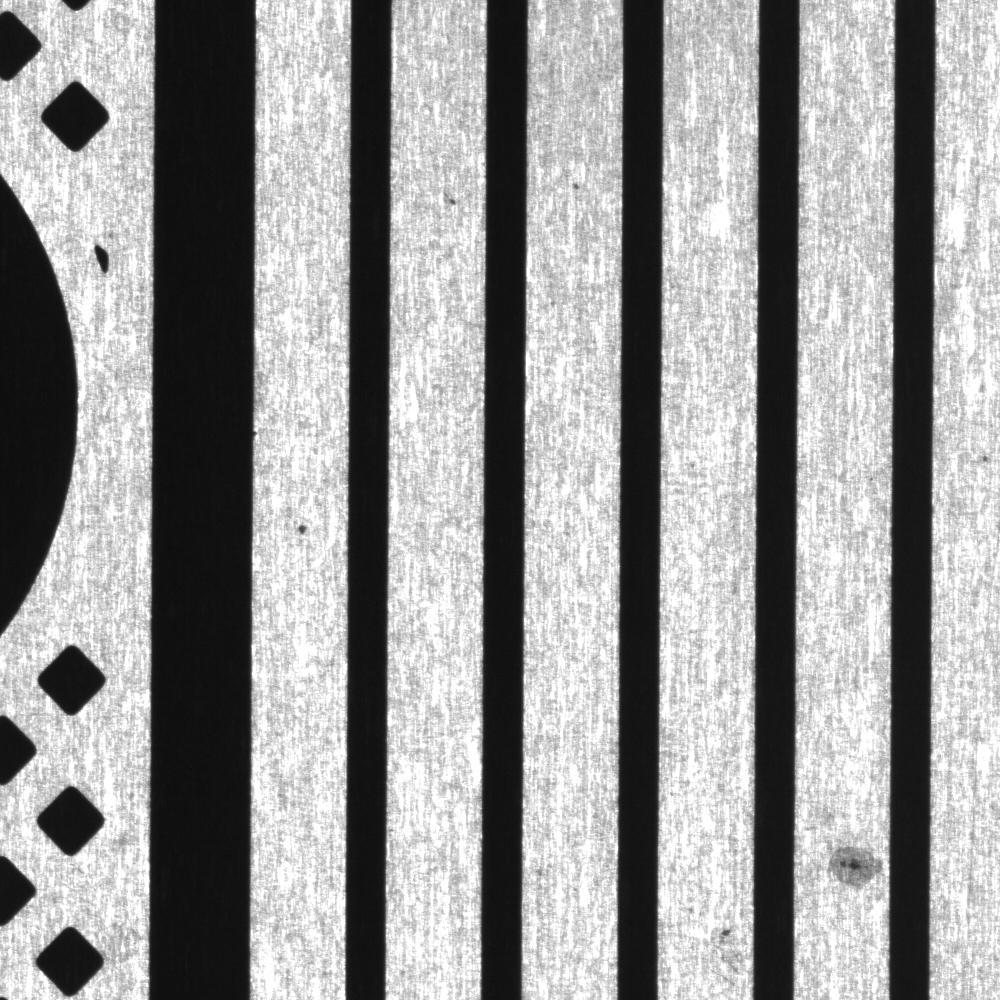Discolor: (812, 823, 890, 909)
Etching: (710, 918, 755, 981), (440, 187, 462, 215)
Pinhole: (283, 508, 319, 543), (974, 443, 997, 471), (568, 177, 590, 195)
